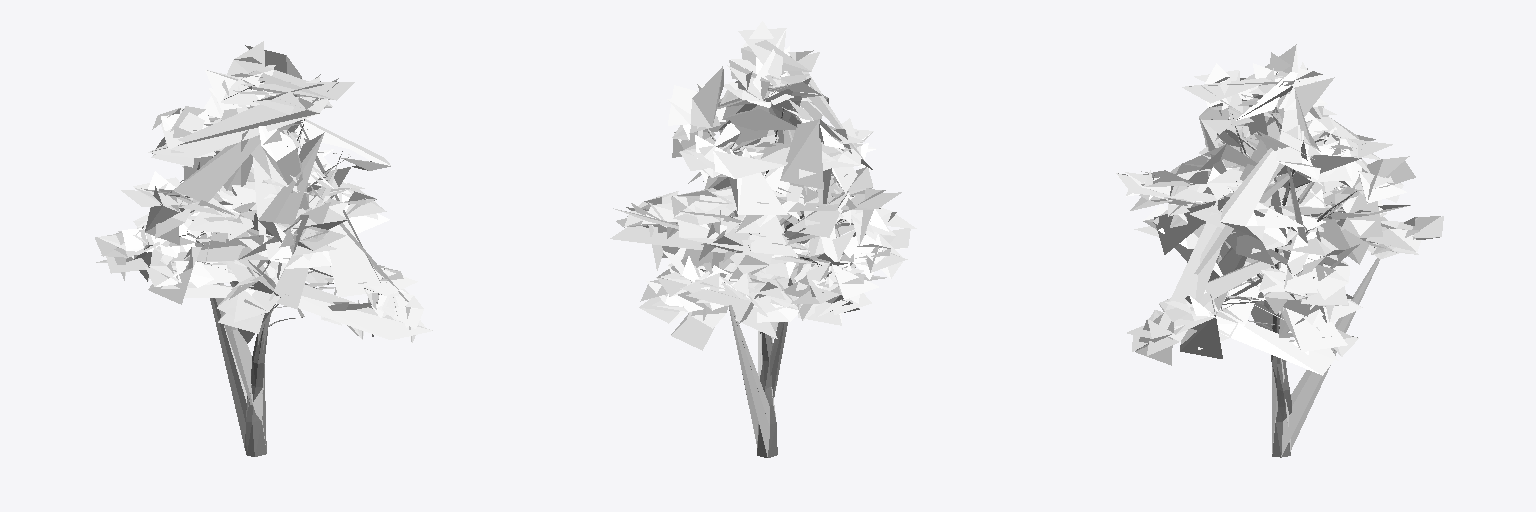
The model's file is Tree_Type1.obj.
The picture shows the model from 3 angles: view 1: azimuth 30°, elevation 25°; view 2: azimuth 150°, elevation 25°; view 3: azimuth 270°, elevation 25°; orthographic projection.
Parts seen in each view (by area): view 1: Leaves1, Bark1; view 2: Leaves1, Bark1; view 3: Leaves1, Bark1.
Boxes of the visible parts, x1,y1,x2,y2 form: Leaves1: [95, 41, 432, 451]; Bark1: [169, 119, 348, 456]; Leaves1: [610, 21, 916, 456]; Bark1: [676, 109, 853, 457]; Leaves1: [1116, 44, 1443, 456]; Bark1: [1217, 108, 1374, 457].
Size of the model in its own units: 11.77 by 16.72 by 12.6.